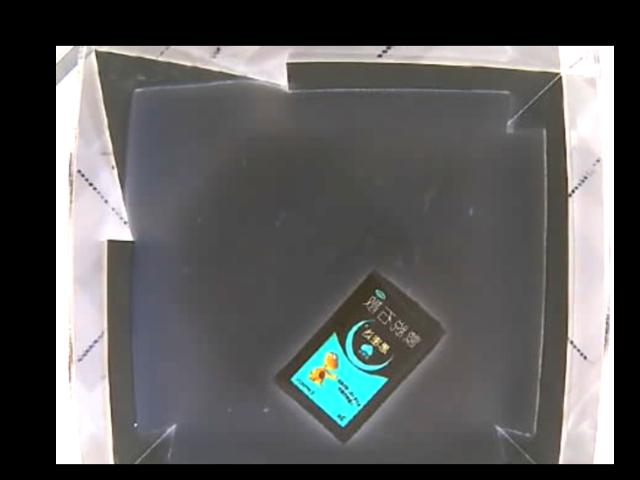Medicine: (273, 269, 445, 442)
